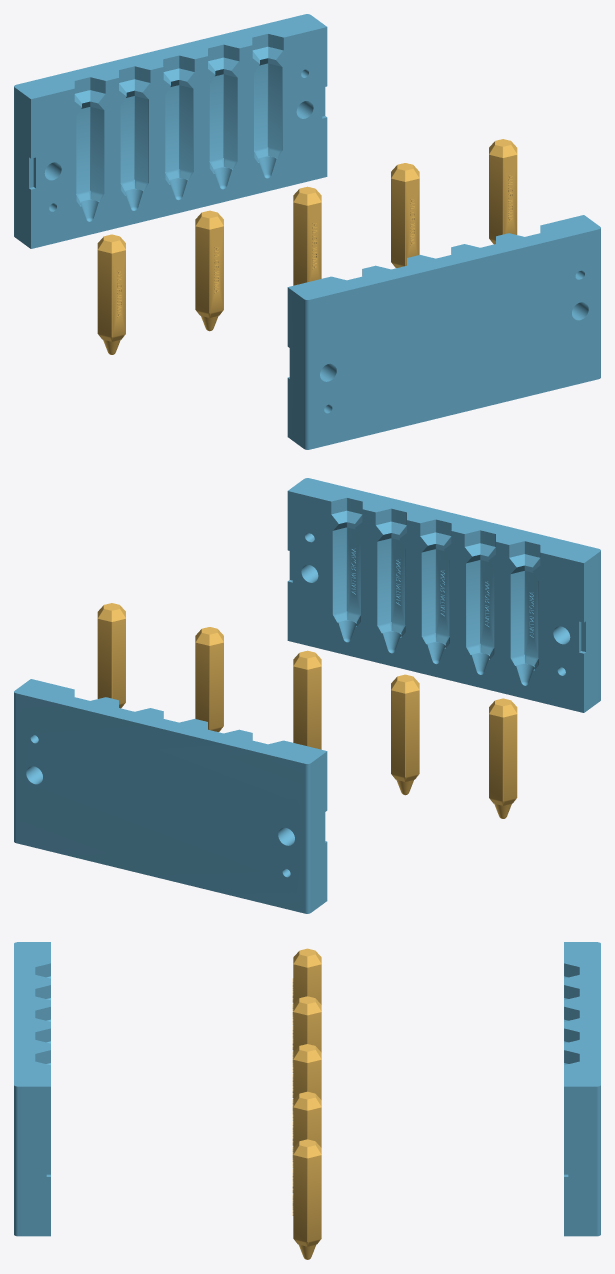
File: product.glb
3 renders of one model, top to bottom at view 1: azimuth 30°, elevation 25°; view 2: azimuth 150°, elevation 25°; view 3: azimuth 270°, elevation 25°, orthographic.
Visible parts, largest first — view 1: 02_mold_A, 03_mold_B, Pencil_0, Pencil_1, Pencil_3, Pencil_4, Pencil_2; view 2: 03_mold_B, 02_mold_A, Pencil_0, Pencil_1, Pencil_3, Pencil_4, Pencil_2; view 3: 02_mold_A, 03_mold_B, Pencil_4, Pencil_1, Pencil_0, Pencil_3, Pencil_2.
Boxes of the visible parts, x1,y1,x2,y2 form: 02_mold_A: [14, 14, 327, 248]; 03_mold_B: [287, 215, 600, 449]; Pencil_0: [97, 234, 125, 354]; Pencil_1: [195, 210, 223, 331]; Pencil_3: [391, 163, 419, 267]; Pencil_4: [489, 139, 517, 244]; Pencil_2: [293, 186, 321, 285]; 03_mold_B: [287, 478, 600, 712]; 02_mold_A: [14, 679, 327, 913]; Pencil_0: [489, 698, 517, 818]; Pencil_1: [391, 674, 419, 795]; Pencil_3: [195, 627, 223, 731]; Pencil_4: [97, 603, 125, 708]; Pencil_2: [293, 650, 321, 749]; 02_mold_A: [564, 942, 600, 1236]; 03_mold_B: [14, 942, 50, 1236]; Pencil_4: [292, 1139, 321, 1259]; Pencil_1: [292, 996, 321, 1072]; Pencil_0: [292, 948, 321, 1024]; Pencil_3: [292, 1091, 321, 1167]; Pencil_2: [292, 1044, 321, 1120].
Size of the model in its own units: 0.1699 by 0.058 by 0.206.
